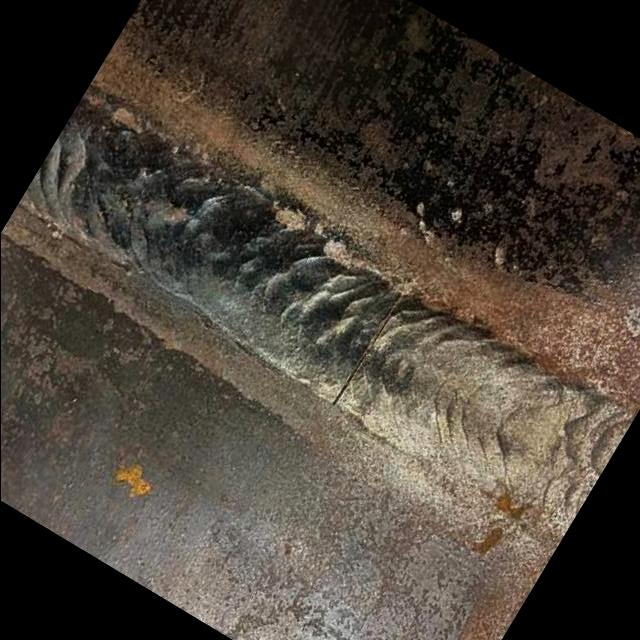defect: (324, 295, 403, 416)
